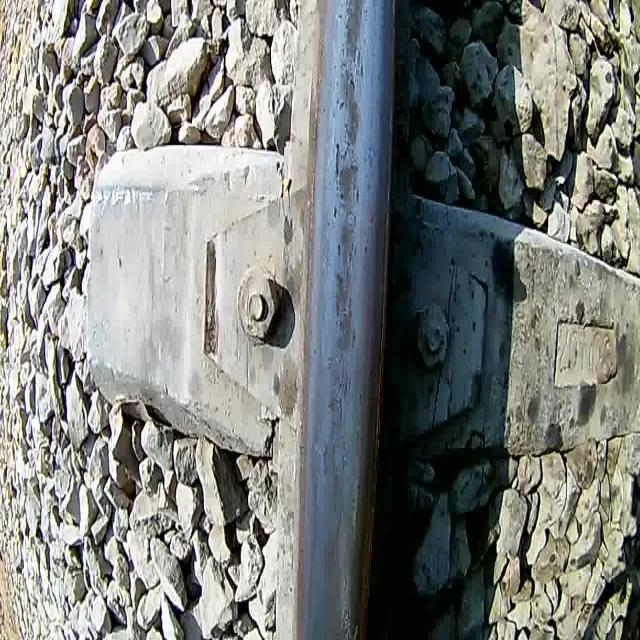Squats: (332, 220, 357, 356), (336, 66, 365, 153), (342, 0, 366, 65), (334, 165, 358, 218)
